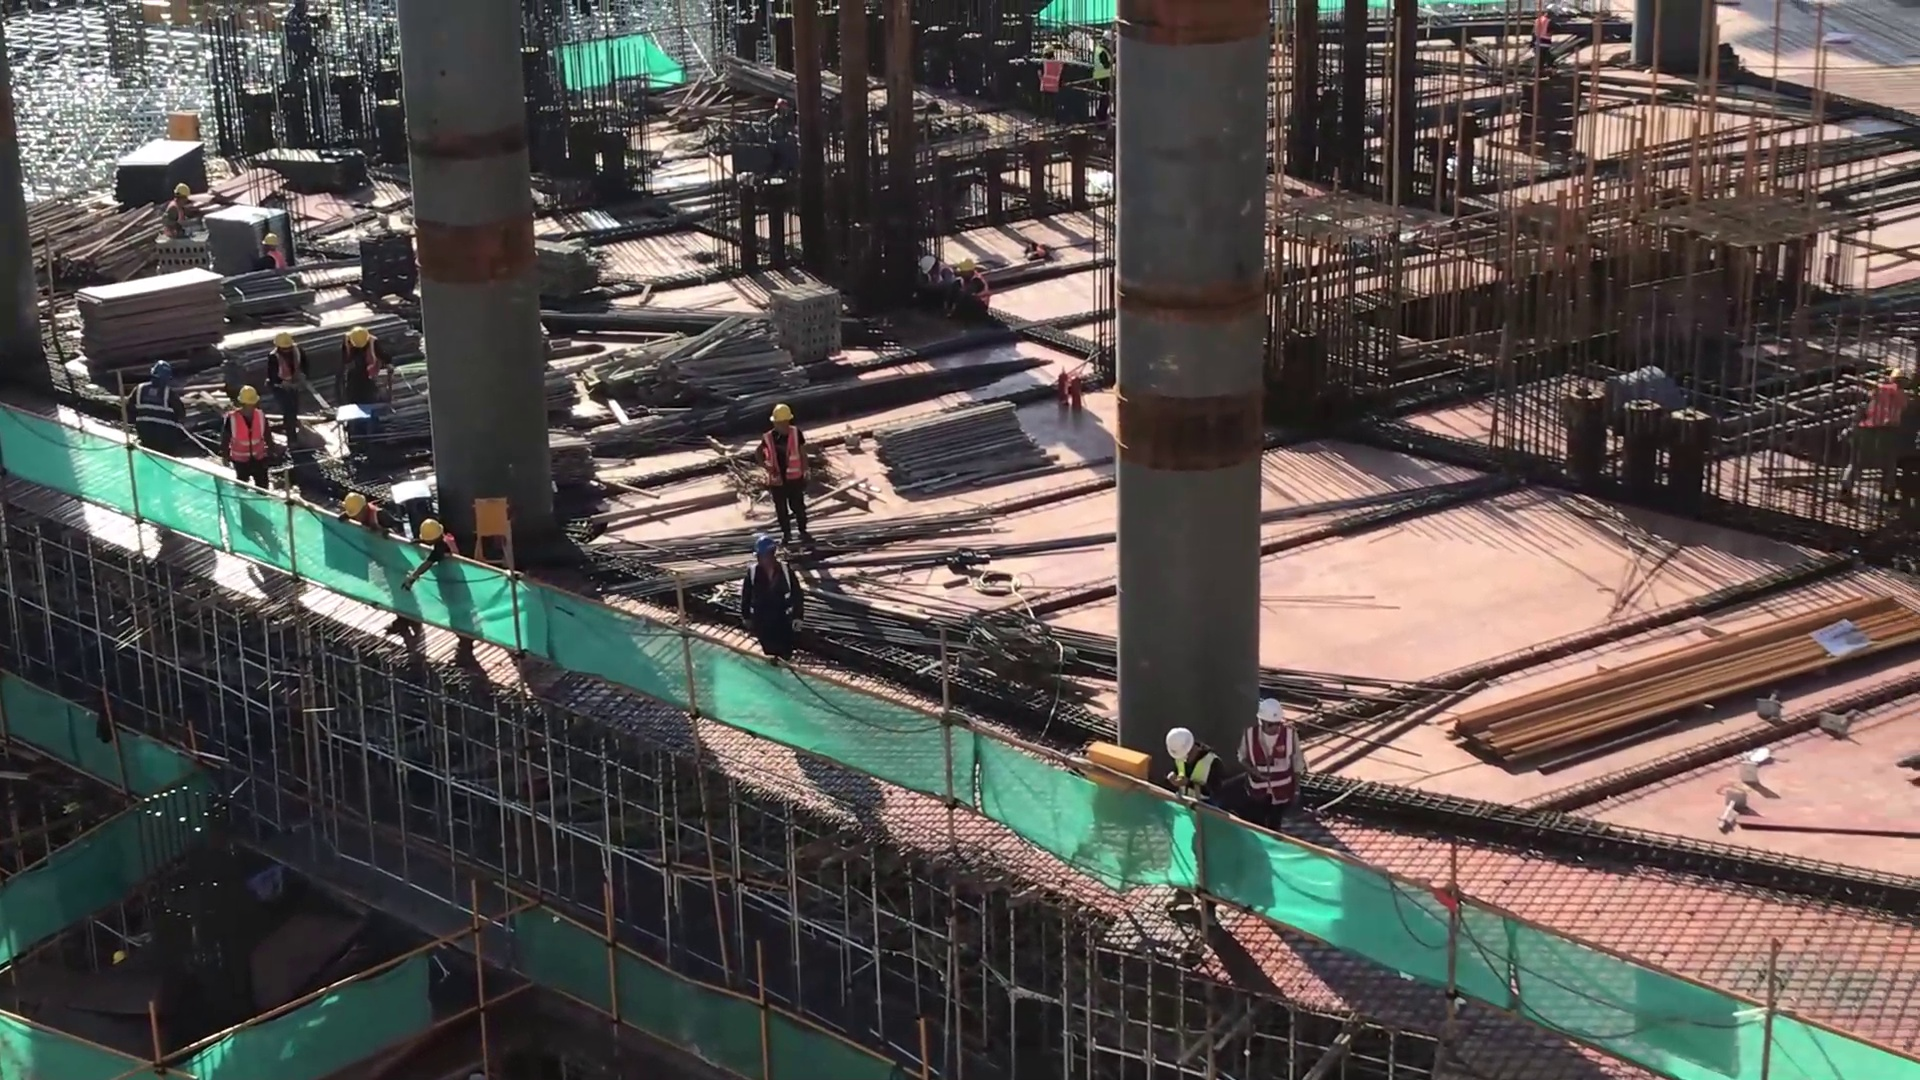helmet: (1159, 713, 1212, 764), (146, 357, 193, 392), (1244, 691, 1284, 729), (413, 512, 462, 543), (348, 318, 393, 351), (766, 389, 800, 429), (272, 323, 302, 357), (331, 488, 365, 516), (227, 388, 258, 410)
vest: (1251, 727, 1302, 806), (761, 426, 816, 488), (224, 407, 277, 465), (133, 377, 179, 429), (1089, 42, 1113, 83), (280, 351, 302, 388), (1042, 61, 1063, 94)
